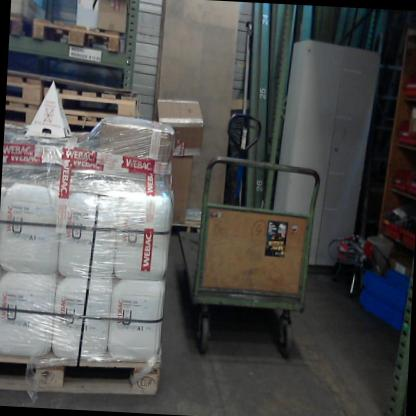pallet: (0, 336, 177, 403), (40, 69, 146, 119), (28, 15, 122, 55), (40, 112, 130, 142), (6, 64, 50, 109), (162, 202, 217, 234), (4, 101, 48, 136), (11, 12, 36, 38)
pallet_truck: (219, 105, 256, 213)
